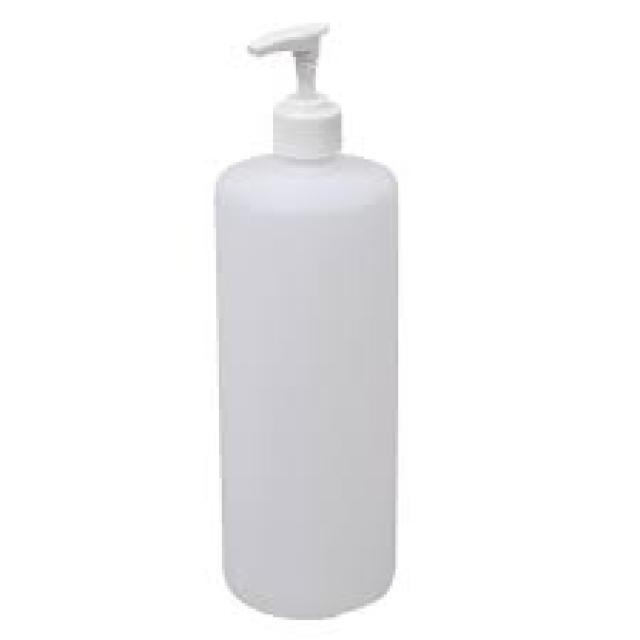Plastic: (216, 14, 405, 622)
